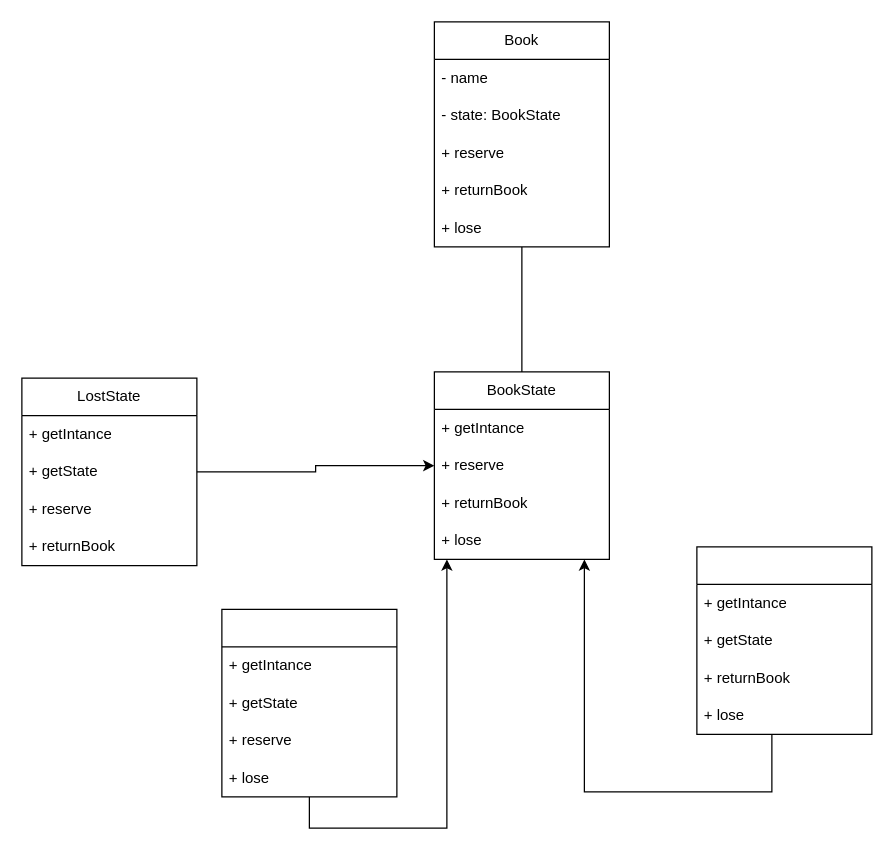
Some shapes in this 894 by 860 pixel diagram are drawn without their labels. Here are the shapes that lost their labels. From the top down, the box of each, then its label:
(696, 546, 872, 734): ReservedState
(221, 608, 397, 797): AvailableState
